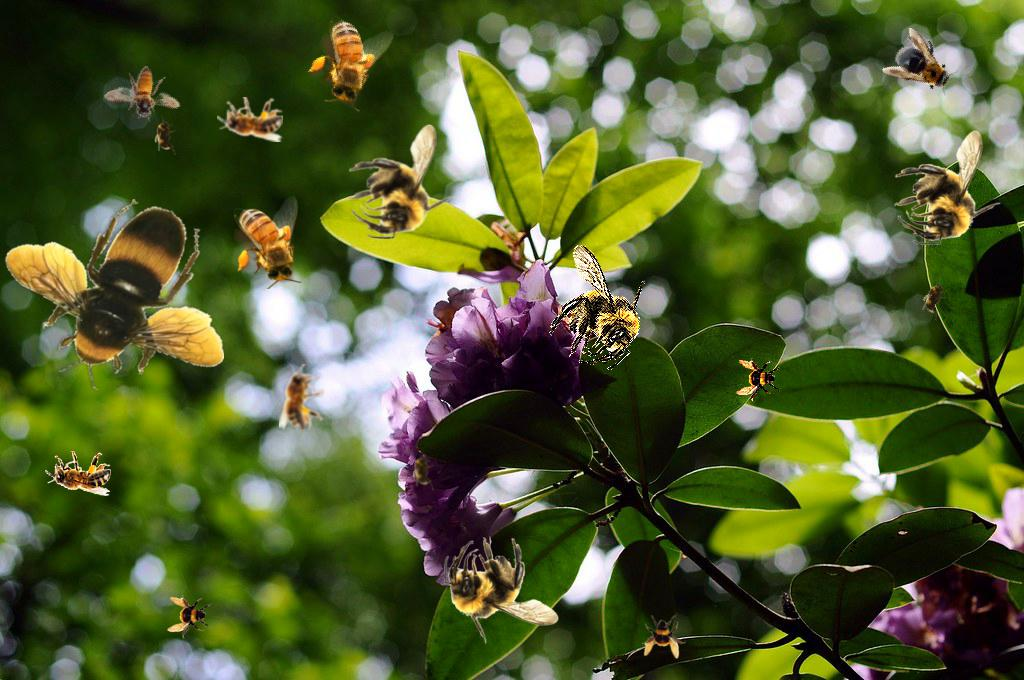Bee: (4, 199, 224, 390), (517, 227, 674, 386), (894, 130, 1001, 245), (348, 124, 455, 239), (444, 537, 559, 644), (296, 3, 400, 118), (102, 55, 190, 134), (881, 26, 967, 106), (234, 196, 302, 289), (45, 451, 111, 496), (217, 97, 283, 142), (279, 364, 324, 430), (167, 595, 211, 639), (642, 615, 686, 659), (736, 358, 780, 402), (916, 275, 954, 321), (412, 450, 434, 490), (154, 115, 176, 155)
